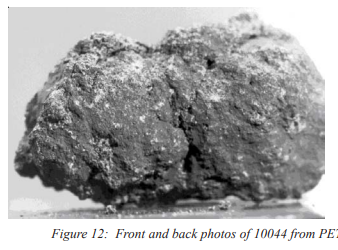Basalt: (6, 6, 324, 218)
